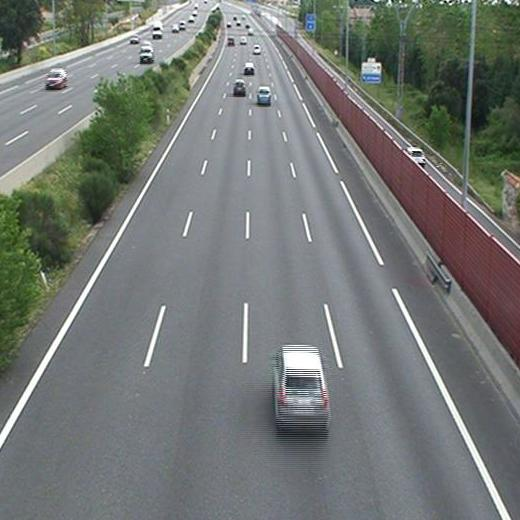car: (275, 345, 328, 420), (257, 87, 271, 103), (233, 80, 247, 94), (244, 62, 255, 74), (252, 45, 260, 55), (226, 37, 234, 47)
